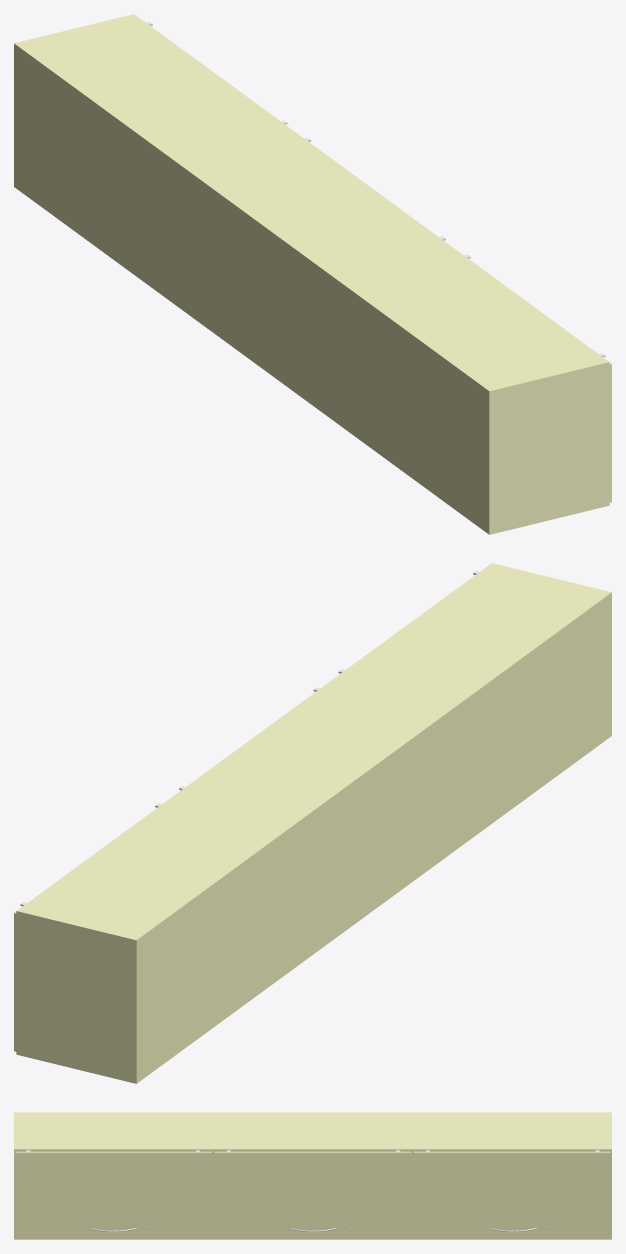
File: cabinet.dae
The picture shows the model from 3 angles, top to bottom: view 1: azimuth 30°, elevation 25°; view 2: azimuth 150°, elevation 25°; view 3: azimuth 270°, elevation 25°; orthographic projection. The views are drawn at different scales.
Visible parts, largest first — view 1: skpbd11; view 2: skpbd11; view 3: skpbd11 (×4).
Part boxes in pixels (x1,y1,x2,y2): skpbd11: [14, 14, 609, 534]; skpbd11: [16, 563, 611, 1083]; skpbd11 (×4): [14, 1112, 611, 1239].
Size of the model in its own units: 15.42 by 94.49 by 15.75.
